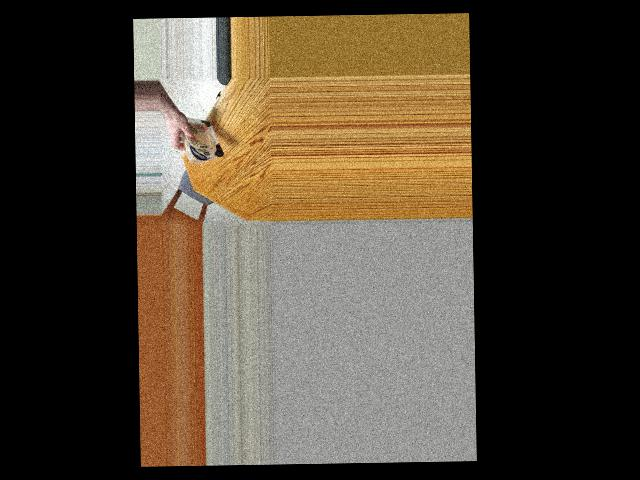cheese: (184, 111, 220, 161)
